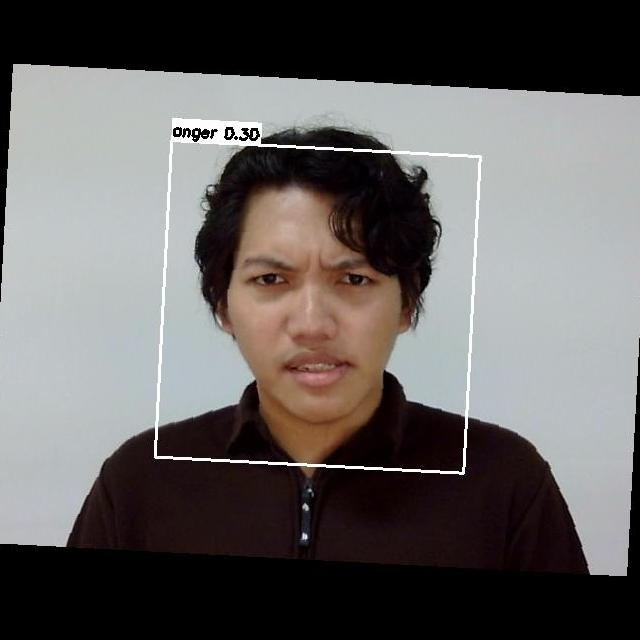Angry: (212, 221, 425, 403)
